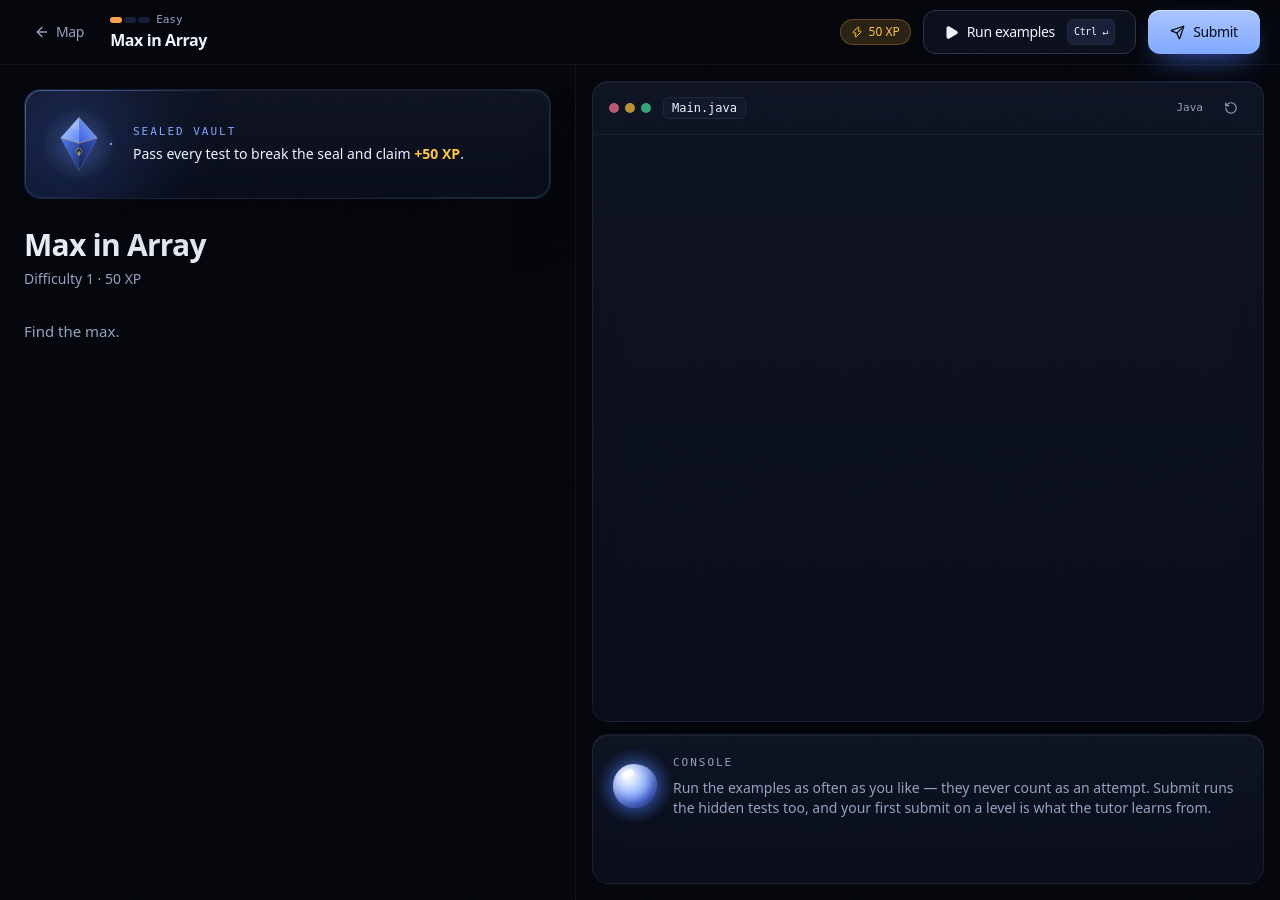
Scenario: PlayScreen › runs the examples on their own route and says the run was not recorded
Expected: the heading "Max in Array" is shown, top-left (24, 224), bottom-right (206, 265)
Click the button "Run examples Ctrl ↵". click: (1029, 32)
box: top-left (923, 10), bottom-right (1136, 54)
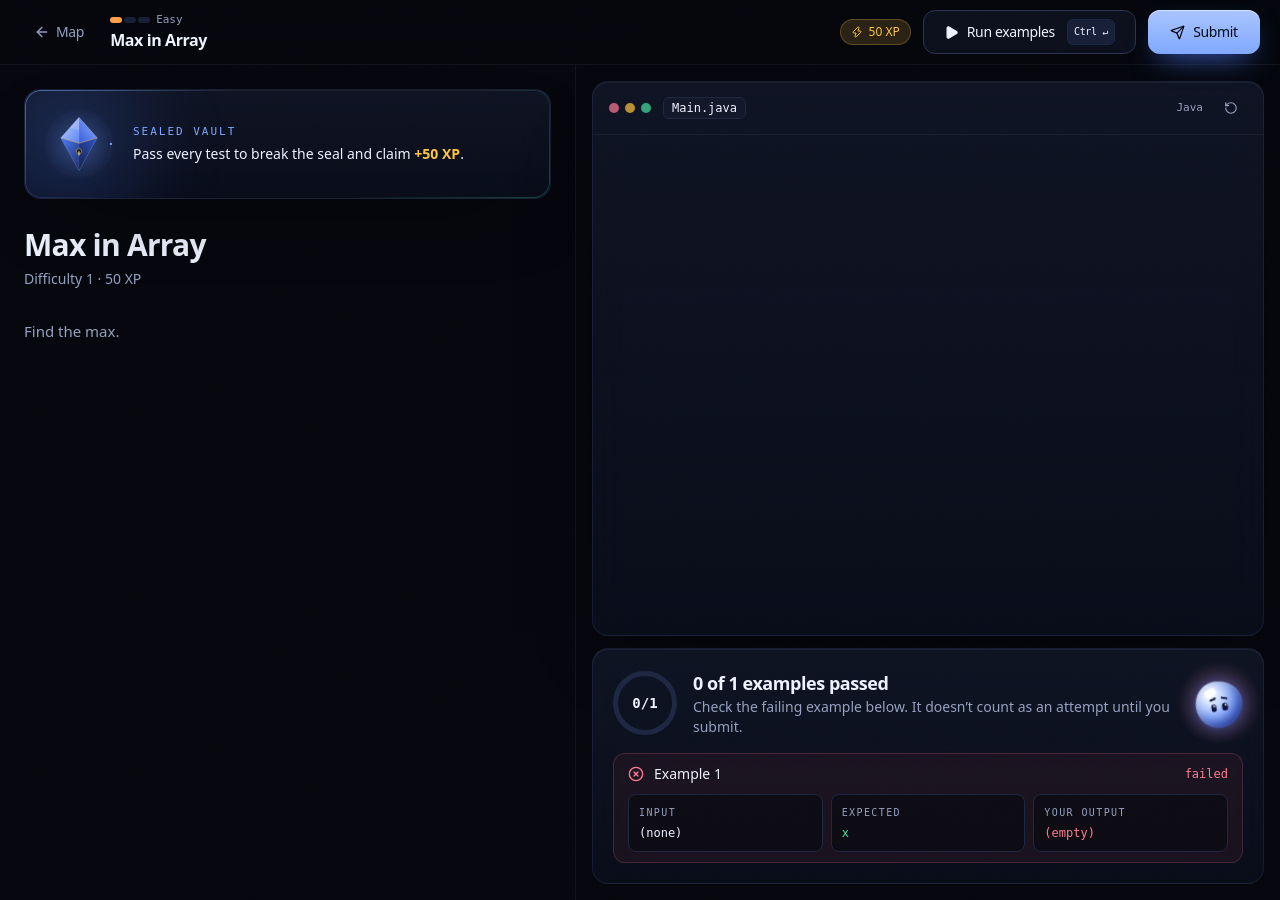
Expected: the text "0 of 1 examples passed" is shown, top-left (693, 671), bottom-right (888, 695)
Expected: the text "doesn’t count as an attempt until you submit" is shown, top-left (693, 697), bottom-right (1170, 736)
